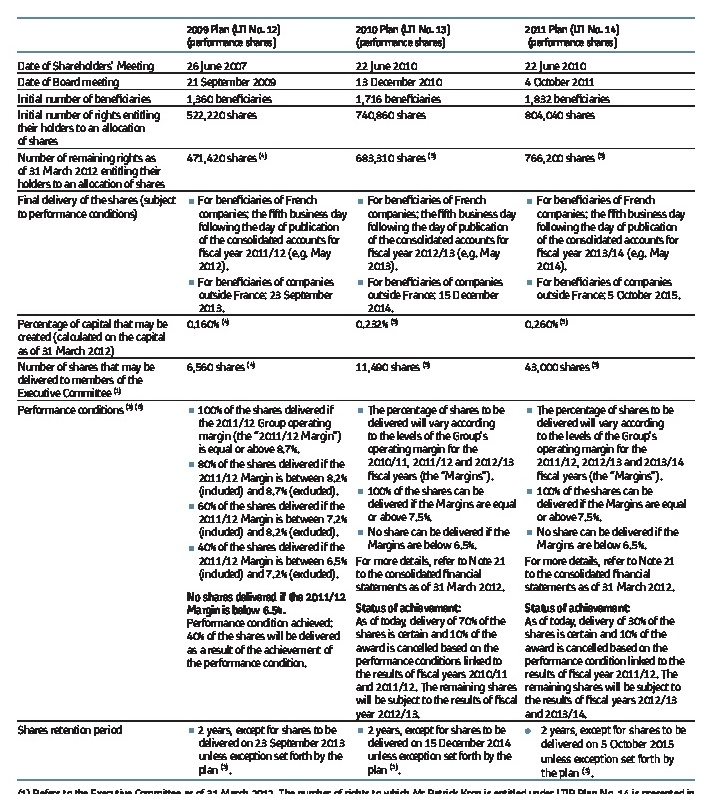table: (0, 0, 710, 794)
